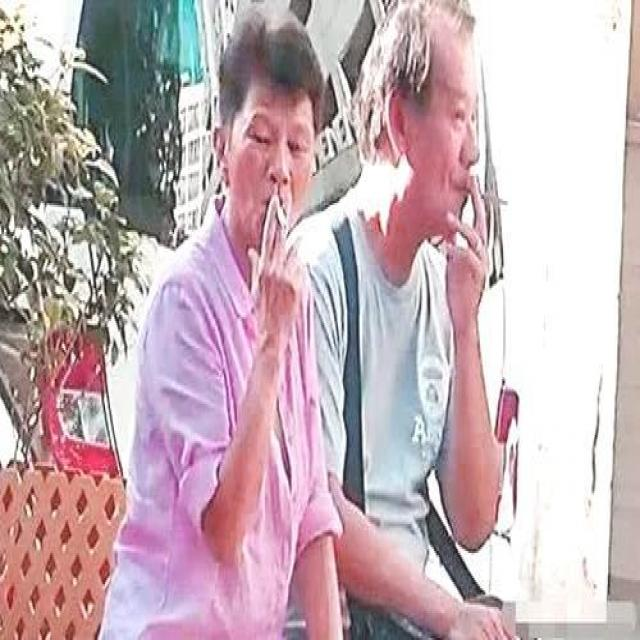smoke: (460, 166, 514, 220), (263, 184, 293, 244)
